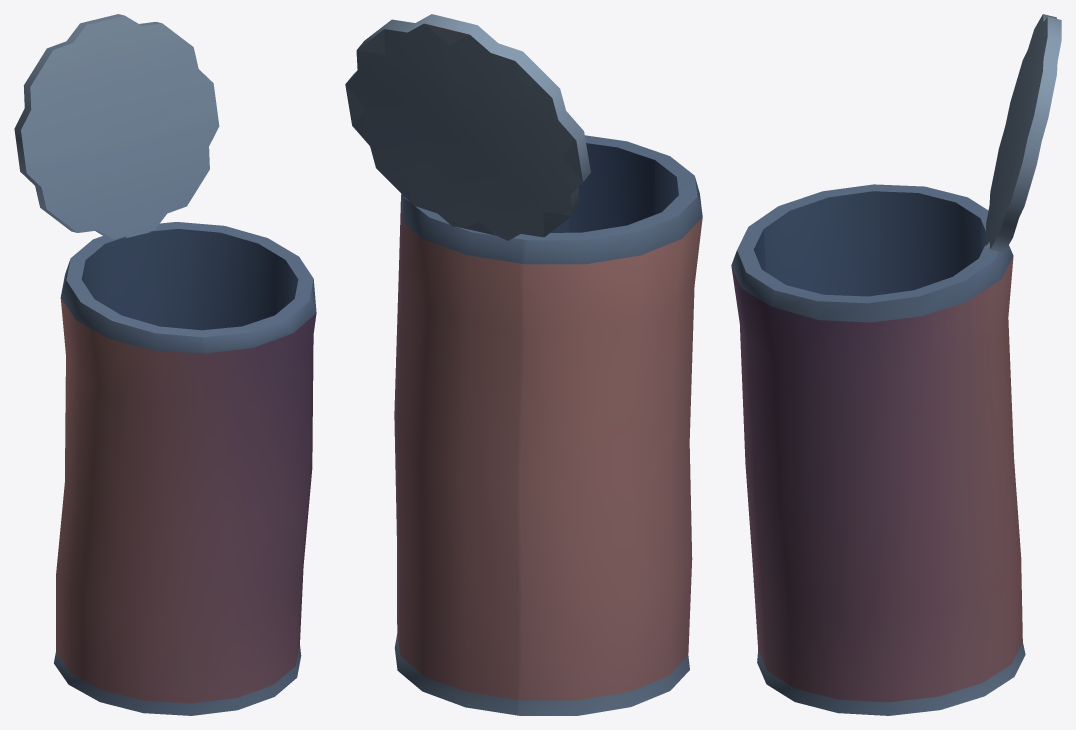
File: can5.fbx
3 views of the same model, side by side, from view 1: azimuth 30°, elevation 25°; view 2: azimuth 150°, elevation 25°; view 3: azimuth 270°, elevation 25° (orthographic). The views are drawn at different scales.
Parts seen in each view (by area): view 1: can5; view 2: can5; view 3: can5.
Part boxes in pixels (bbox=[...]): can5: bbox=[14, 14, 316, 715]; can5: bbox=[345, 14, 702, 715]; can5: bbox=[731, 14, 1061, 715].
Size of the model in its own units: 0.00111 by 0.00282 by 0.00132.
Materials: 1 (1 with a texture image).
